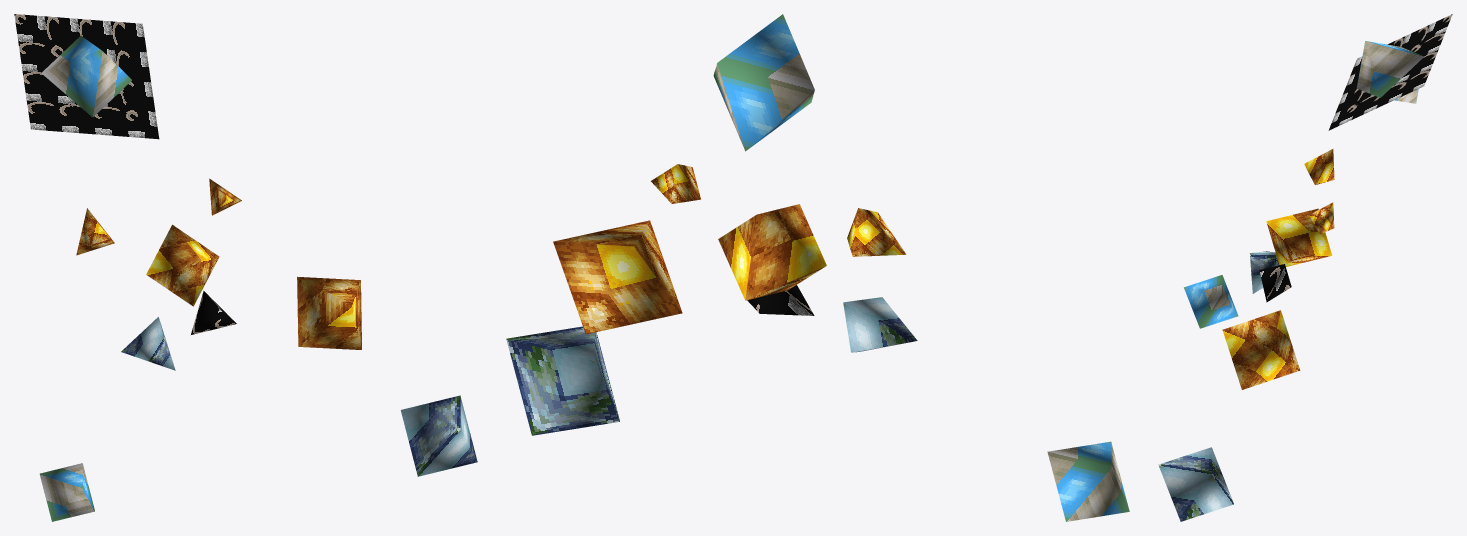
Rendered from 3275IMIG05_01.gltf.
The picture shows the model from 3 angles, left to right: view 1: azimuth 30°, elevation 25°; view 2: azimuth 150°, elevation 25°; view 3: azimuth 270°, elevation 25°; orthographic projection. The views are drawn at different scales.
Parts seen in each view (by area): view 1: 3275IMIG05_01; view 2: 3275IMIG05_01; view 3: 3275IMIG05_01.
Boxes of the visible parts, x1,y1,x2,y2 form: 3275IMIG05_01: [14, 14, 477, 521]; 3275IMIG05_01: [506, 14, 1129, 521]; 3275IMIG05_01: [1158, 14, 1452, 521].
Size of the model in its own units: 1.3 by 1.24 by 0.8927.
Materials: 4 (4 with a texture image).
